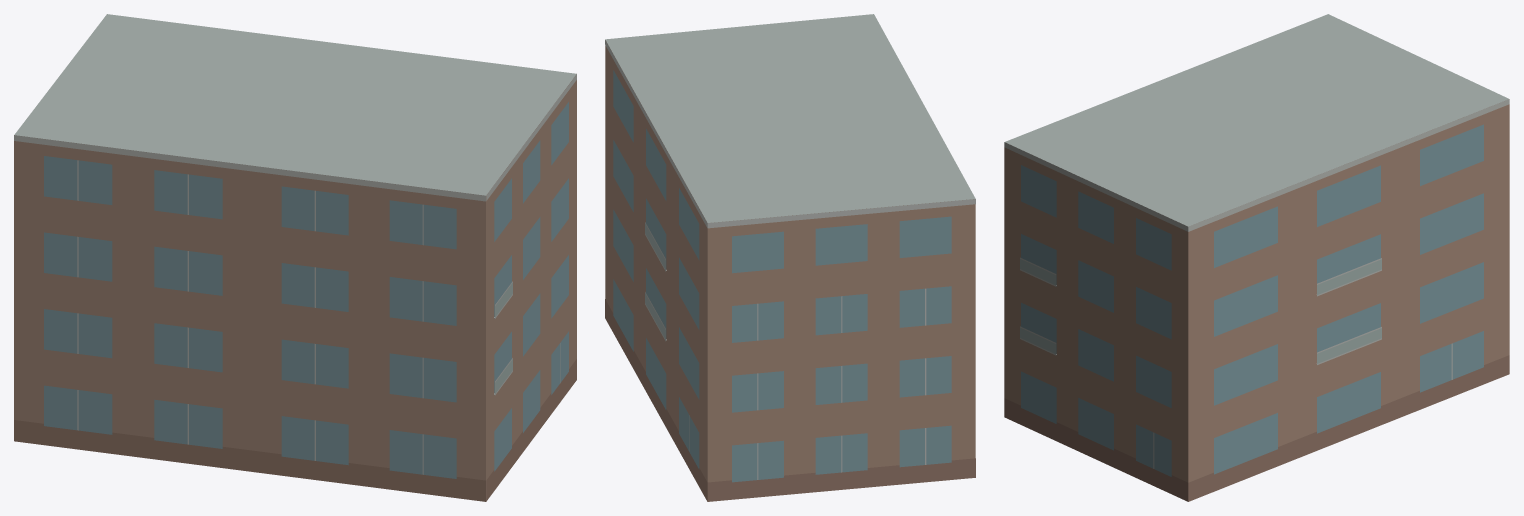
Rendered from survey-upis-32838537.glb.
3 views of the same model, side by side, from view 1: azimuth 30°, elevation 25°; view 2: azimuth 150°, elevation 25°; view 3: azimuth 270°, elevation 25° (orthographic). The views are drawn at different scales.
Parts seen in each view (by area): view 1: survey-upis-32838537.tmp; view 2: survey-upis-32838537.tmp; view 3: survey-upis-32838537.tmp.
Part boxes in pixels (x1,y1,x2,y2): survey-upis-32838537.tmp: (14, 14, 576, 501); survey-upis-32838537.tmp: (605, 14, 975, 501); survey-upis-32838537.tmp: (1004, 14, 1509, 501).
Bounding box in the file's own units: 21.22 × 12.8 × 21.29.
